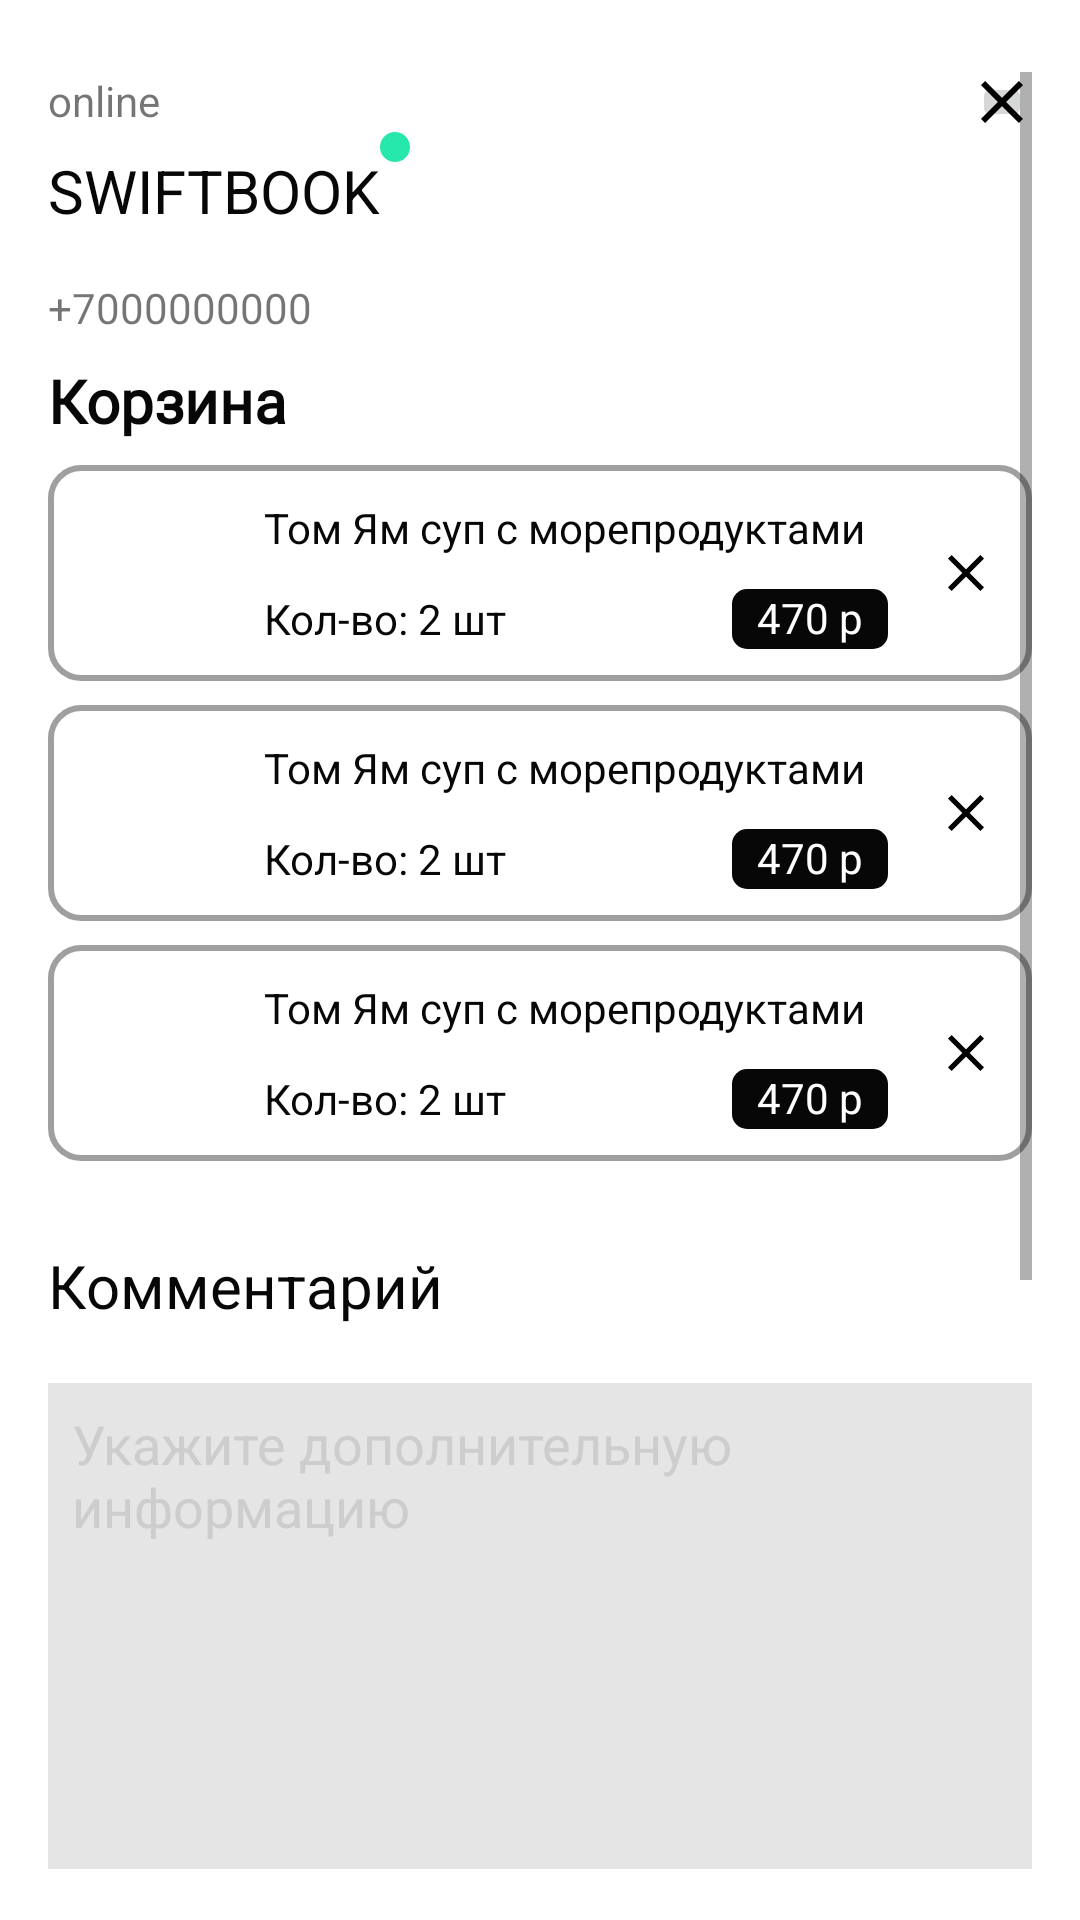

Named icons in this screenshot (1080 x 1920) and their centers, (x=x, y=y):
close: (x=1006, y=102), (x=966, y=573), (x=966, y=813), (x=966, y=1053)
